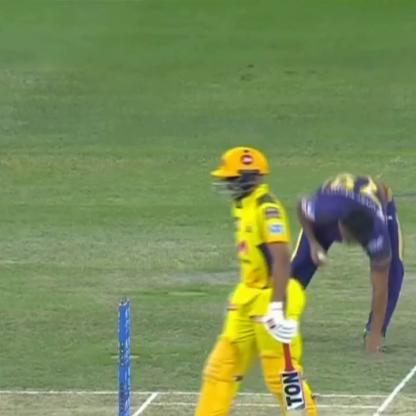ball: (310, 248, 334, 272)
